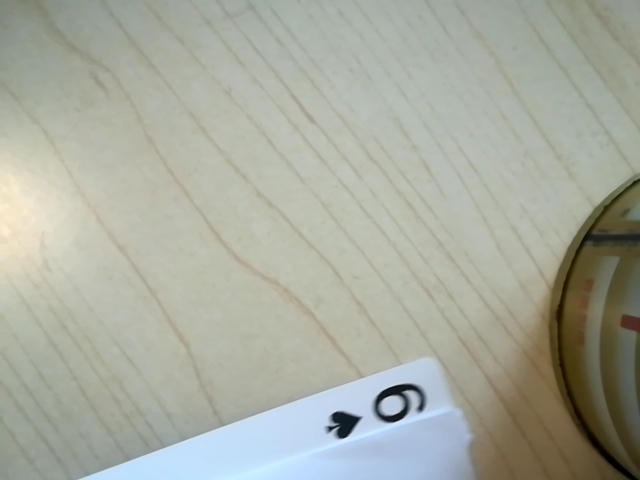ht 6: (314, 372, 448, 444)
